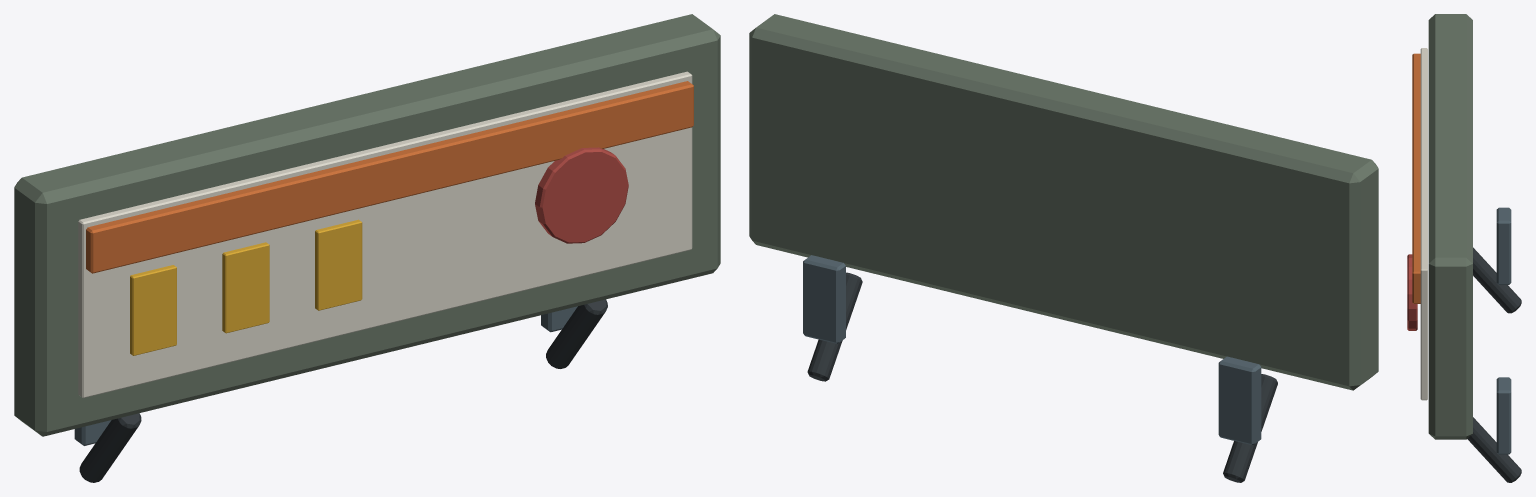
File: PRP_CITY_001_shop_sign.glb
3 views of the same model, side by side, from view 1: azimuth 30°, elevation 25°; view 2: azimuth 150°, elevation 25°; view 3: azimuth 270°, elevation 25° (orthographic). The views are drawn at different scales.
Parts seen in each view (by area): view 1: PRP_CITY_001_shop_sign_RenderMesh; view 2: PRP_CITY_001_shop_sign_RenderMesh; view 3: PRP_CITY_001_shop_sign_RenderMesh.
Boxes of the visible parts, x1,y1,x2,y2 form: PRP_CITY_001_shop_sign_RenderMesh: [14, 14, 720, 482]; PRP_CITY_001_shop_sign_RenderMesh: [749, 14, 1378, 482]; PRP_CITY_001_shop_sign_RenderMesh: [1407, 14, 1521, 482].
Bounding box in the file's own units: 2 × 0.9769 × 0.3877.
